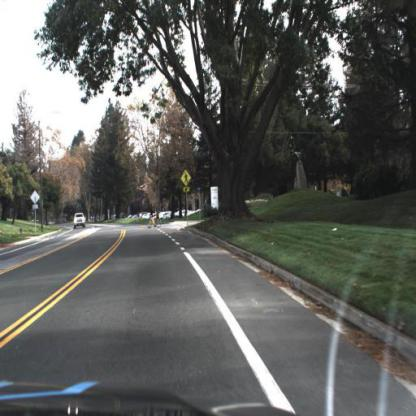car: (74, 212, 87, 230), (74, 211, 87, 229)
pedestrian: (147, 202, 164, 231), (147, 206, 162, 229)
